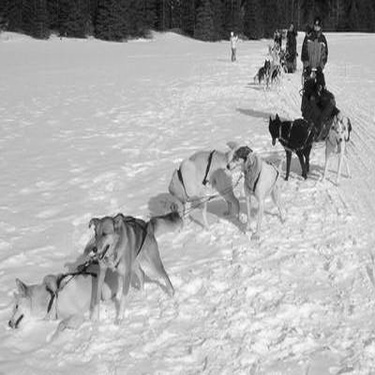dog: (3, 246, 127, 354), (78, 204, 190, 309), (162, 132, 254, 227), (215, 135, 289, 244), (262, 108, 319, 183), (322, 113, 357, 188), (255, 58, 274, 88)
